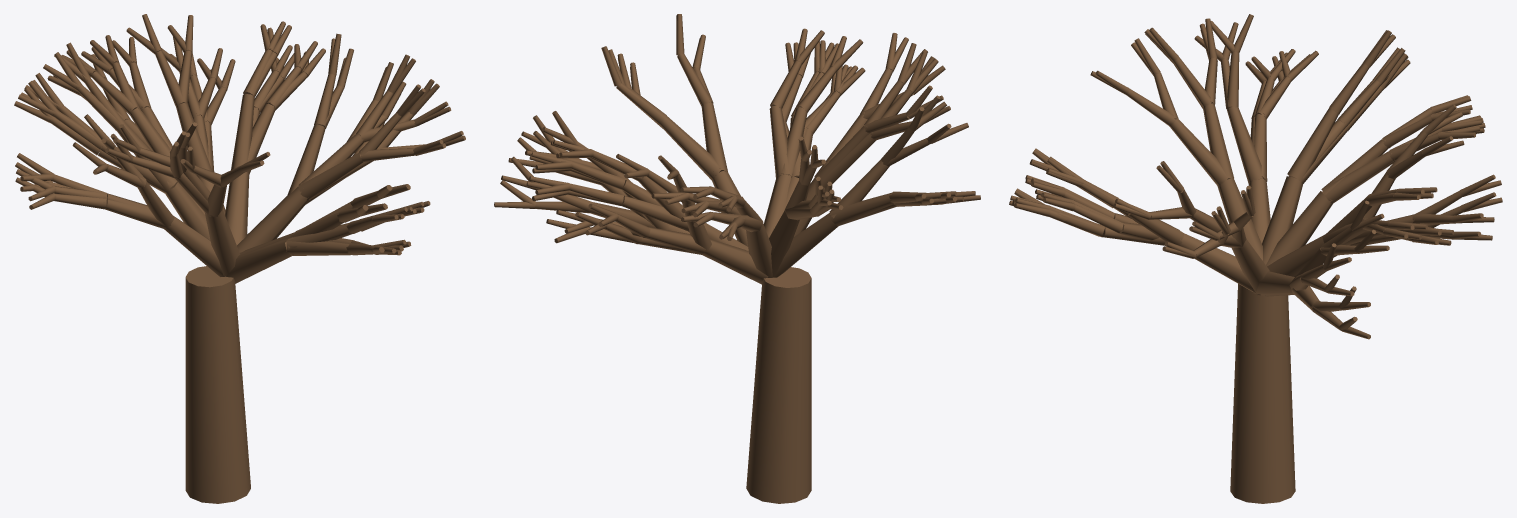
The model's file is mezalmacska-tel.glb.
3 views of the same model, side by side, from view 1: azimuth 30°, elevation 25°; view 2: azimuth 150°, elevation 25°; view 3: azimuth 270°, elevation 25° (orthographic).
Parts seen in each view (by area): view 1: torzs, gally-8-2 (×2), gally-0-2 (×2), gally-0-1, gally-0-3 (×3), gally-2-2 (×2), gally-4-2 (×2), gally-2-1, gally-8-1, gally-3-1, gally-4-1, gally-5-1 (+10 smaller); view 2: torzs, gally-0-2 (×2), gally-1-2 (×2), gally-4-2 (×2), gally-8-2 (×2), gally-3-2 (×2), gally-4-1, gally-7-1, gally-0-3 (×2), gally-1-3 (×2), gally-5-1, gally-6-1 (+4 smaller); view 3: torzs, gally-3-2 (×2), gally-4-2 (×2), gally-6-2 (×2), gally-6-1, gally-5-1, gally-1-1, gally-5-2, gally-5-3 (×2), gally-3-1, gally-3-3 (×2), gally-8-1 (+5 smaller).
Boxes of the visible parts, x1,y1,x2,y2 form: torzs: (185, 266, 250, 503); gally-8-2 (×2): (231, 94, 275, 174); gally-0-2 (×2): (298, 133, 363, 199); gally-0-1: (237, 186, 308, 252); gally-0-3 (×3): (356, 90, 415, 161); gally-2-2 (×2): (286, 222, 352, 255); gally-4-2 (×2): (105, 181, 174, 228); gally-2-1: (226, 238, 291, 283); gally-8-1: (225, 172, 249, 245); gally-3-1: (204, 209, 240, 276); gally-4-1: (164, 216, 224, 276); gally-5-1: (165, 181, 210, 240); torzs: (746, 267, 811, 503); gally-0-2 (×2): (659, 102, 727, 178); gally-1-2 (×2): (769, 105, 807, 177); gally-4-2 (×2): (829, 159, 894, 223); gally-8-2 (×2): (621, 176, 688, 230); gally-3-2 (×2): (814, 125, 875, 189); gally-4-1: (774, 213, 837, 277); gally-7-1: (702, 239, 768, 284); gally-0-3 (×2): (616, 54, 712, 124); gally-1-3 (×2): (770, 60, 836, 111); gally-5-1: (769, 211, 799, 277); gally-6-1: (746, 223, 772, 277); torzs: (1230, 283, 1295, 503); gally-3-2 (×2): (1169, 103, 1233, 185); gally-4-2 (×2): (1227, 106, 1267, 183); gally-6-2 (×2): (1321, 139, 1394, 202); gally-6-1: (1266, 191, 1332, 266); gally-5-1: (1262, 176, 1302, 264); gally-1-1: (1179, 233, 1260, 295); gally-5-2: (1287, 108, 1338, 181); gally-5-3 (×2): (1329, 63, 1381, 126); gally-3-1: (1217, 178, 1262, 260); gally-3-3 (×2): (1125, 57, 1213, 126); gally-8-1: (1267, 234, 1324, 276).
Size of the model in its own units: 3.17 by 3.02 by 3.18.
